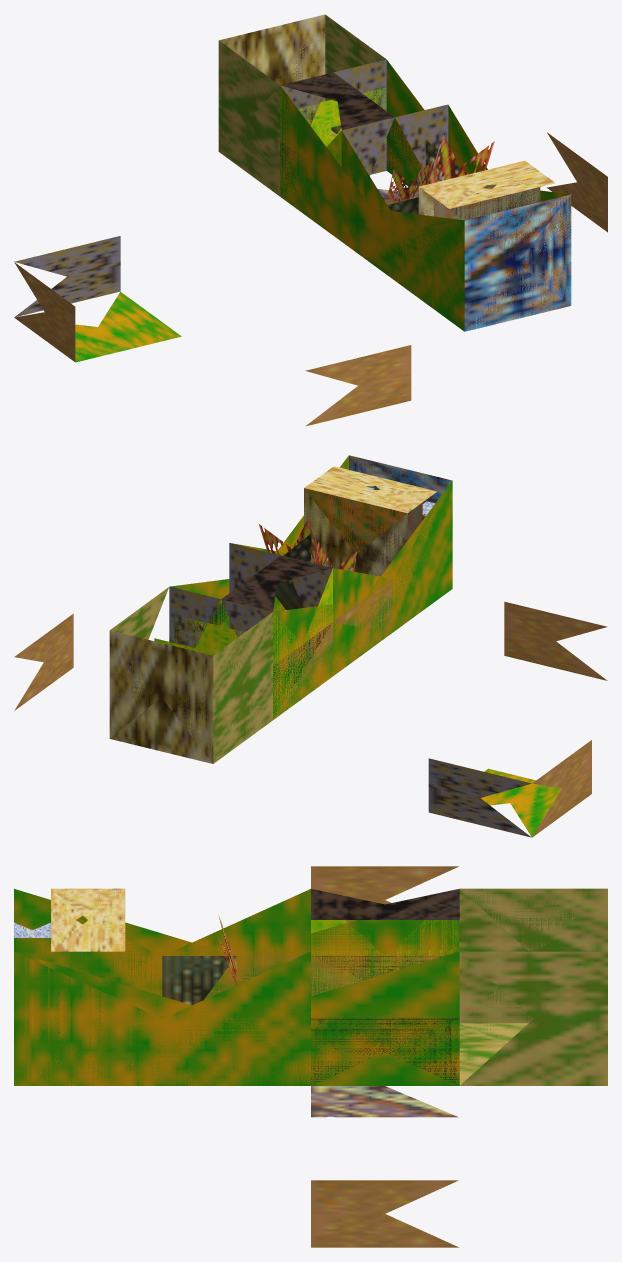
The model's file is town_geometry_type_36.obj.
3 views of the same model, one above another, from view 1: azimuth 30°, elevation 25°; view 2: azimuth 150°, elevation 25°; view 3: azimuth 270°, elevation 25° (orthographic). The views are drawn at different scales.
Parts seen in each view (by area): view 1: face_list_010, face_list_002, face_list_000, face_list_009, face_list_005, face_list_015, face_list_050, face_list_006, face_list_035, face_list_037, face_list_041, face_list_060 (+9 smaller); view 2: face_list_010, face_list_000, face_list_002, face_list_050, face_list_054, face_list_037, face_list_006, face_list_064, face_list_035, face_list_036, face_list_059, face_list_005 (+12 smaller); view 3: face_list_005, face_list_006, face_list_000, face_list_010, face_list_002, face_list_035, face_list_037, face_list_060, face_list_026, face_list_055, face_list_025, face_list_061 (+3 smaller).
Part boxes in pixels (x1=…): face_list_010: x1=14, y1=132, x2=607, y2=426; face_list_002: x1=280, y1=85, x2=464, y2=330; face_list_000: x1=218, y1=40, x2=464, y2=331; face_list_009: x1=464, y1=194, x2=570, y2=331; face_list_005: x1=325, y1=14, x2=569, y2=201; face_list_015: x1=465, y1=195, x2=571, y2=331; face_list_050: x1=219, y1=14, x2=325, y2=101; face_list_006: x1=334, y1=59, x2=570, y2=201; face_list_035: x1=220, y1=42, x2=280, y2=196; face_list_037: x1=280, y1=72, x2=394, y2=211; face_list_041: x1=465, y1=195, x2=571, y2=305; face_list_060: x1=420, y1=161, x2=555, y2=201; face_list_010: x1=14, y1=601, x2=607, y2=837; face_list_000: x1=213, y1=481, x2=452, y2=763; face_list_002: x1=221, y1=482, x2=452, y2=719; face_list_050: x1=109, y1=630, x2=213, y2=763; face_list_054: x1=109, y1=631, x2=213, y2=763; face_list_037: x1=221, y1=555, x2=332, y2=719; face_list_006: x1=169, y1=455, x2=348, y2=653; face_list_064: x1=304, y1=488, x2=407, y2=576; face_list_035: x1=213, y1=612, x2=272, y2=762; face_list_036: x1=304, y1=488, x2=406, y2=568; face_list_059: x1=305, y1=488, x2=407, y2=575; face_list_005: x1=110, y1=456, x2=348, y2=639; face_list_005: x1=14, y1=951, x2=607, y2=1085; face_list_006: x1=14, y1=951, x2=459, y2=1085; face_list_000: x1=14, y1=888, x2=607, y2=1023; face_list_010: x1=311, y1=866, x2=458, y2=1247; face_list_002: x1=14, y1=889, x2=459, y2=999; face_list_035: x1=459, y1=888, x2=605, y2=1023; face_list_037: x1=311, y1=889, x2=459, y2=995; face_list_060: x1=14, y1=889, x2=125, y2=951; face_list_026: x1=311, y1=1018, x2=459, y2=1085; face_list_055: x1=162, y1=956, x2=236, y2=1005; face_list_025: x1=312, y1=956, x2=525, y2=1085; face_list_061: x1=51, y1=888, x2=125, y2=950.
Size of the model in its own units: 320 by 101 by 256.
33 materials, 33 textured.
